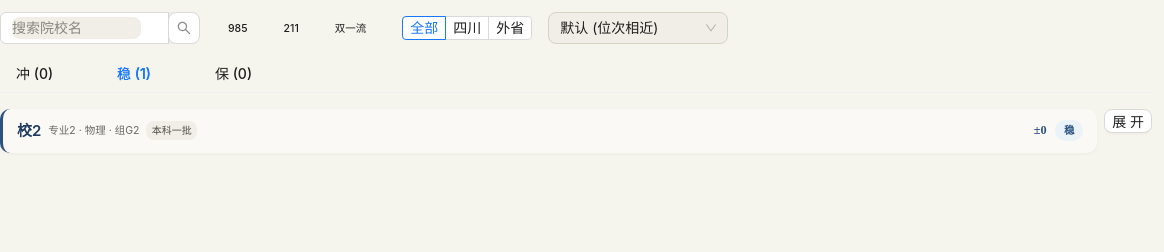
Test case: TieredResults › shows an empty state for a tier with no results
This screenshot has width=1164, height=252.
Click the tab "冲 (0)".
click(35, 74)  # box x1=16 y1=62 x2=53 y2=84
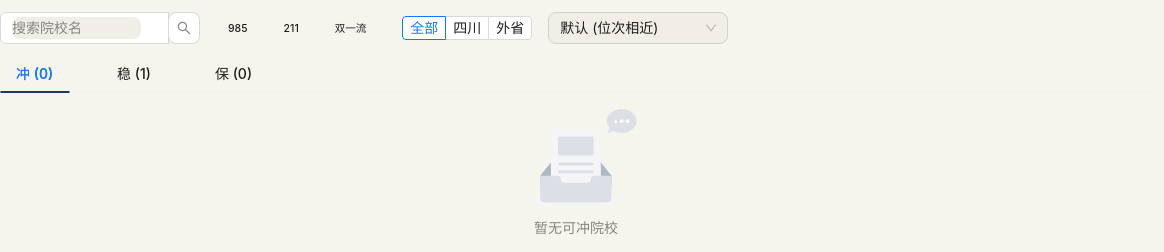
Check: the text "暂无可冲院校" is shown, box x1=534 y1=218 x2=618 y2=236
